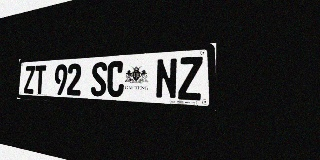2: (67, 63, 81, 96)
9: (54, 64, 68, 95)
C: (107, 61, 124, 97)
N: (155, 58, 178, 99)
S: (91, 62, 107, 97)
T: (34, 65, 46, 94)
Z: (178, 56, 203, 100), (24, 66, 35, 94)
